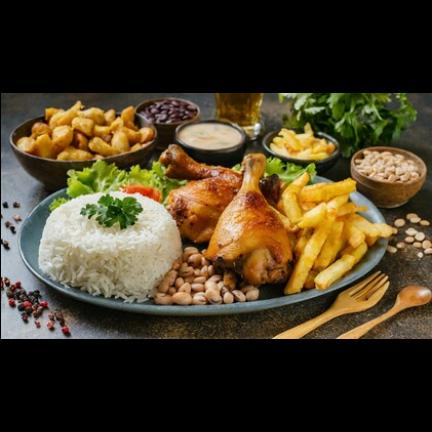beans: (154, 247, 259, 305), (139, 99, 198, 124)
chicken: (160, 145, 292, 284), (16, 102, 154, 160)
potato: (279, 172, 396, 294)
rice: (38, 192, 182, 302)
salad: (67, 161, 186, 203)
